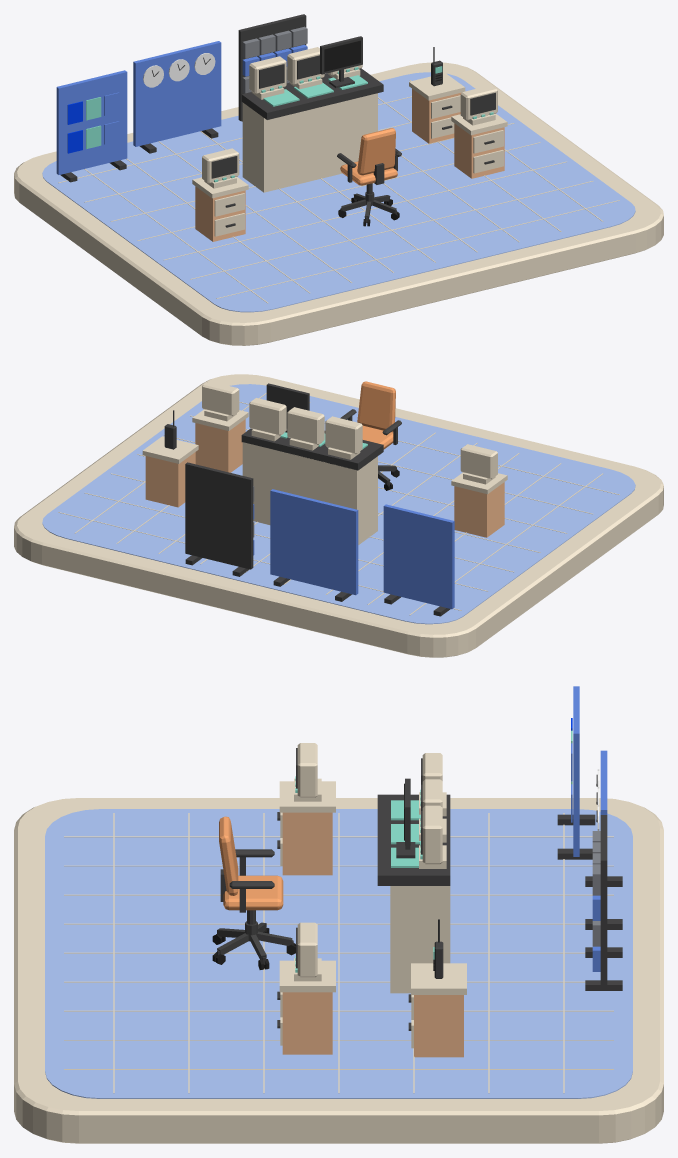
Rendered from room.fbx.
3 views of the same model, one above another, from view 1: azimuth 30°, elevation 25°; view 2: azimuth 150°, elevation 25°; view 3: azimuth 270°, elevation 25° (orthographic). The views are drawn at different scales.
Parts seen in each view (by area): view 1: COM-02 Floor Surface, COM-01 Rounded Base Direct, Console, Panel.002, Panel.001, COM-04_Chair_blender_direct, Panel, Frame, Panel.003, Body, Body.001, Body.002 (+16 smaller); view 2: COM-02 Floor Surface, COM-01 Rounded Base Direct, Panel.002, Console, Panel.001, Panel.003, COM-04_Chair_blender_direct, Body, Body.001, Body.002, Panel, Housing (+8 smaller); view 3: COM-02 Floor Surface, COM-01 Rounded Base Direct, COM-04_Chair_blender_direct, Console, Body, Body.001, Body.002, Panel, Top.002, Panel.003, Top.001, Top (+12 smaller).
Part boxes in pixels (x1,y1,x2,y2): COM-02 Floor Surface: (42,72,635,312); COM-01 Rounded Base Direct: (14,62,663,345); Console: (242,93,377,192); Panel.002: (133,41,221,146); Panel.001: (56,70,127,174); COM-04_Chair_blender_direct: (337,128,401,226); Panel: (241,68,383,119); Frame: (320,36,362,87); Panel.003: (238,14,306,121); Body: (195,186,245,241); Body.001: (454,123,504,178); Body.002: (412,89,461,143); COM-02 Floor Surface: (42,384,635,624); COM-01 Rounded Base Direct: (14,374,663,657); Panel.002: (270,489,358,595); Console: (242,442,377,544); Panel.001: (383,504,454,609); Panel.003: (185,462,253,569); COM-04_Chair_blender_direct: (340,381,401,490); Body: (454,482,504,537); Body.001: (195,419,245,472); Body.002: (145,452,195,507); Panel: (241,428,383,470); Housing: (325,416,362,454); COM-02 Floor Surface: (45,809,632,1098); COM-01 Rounded Base Direct: (14,798,663,1143); COM-04_Chair_blender_direct: (212,816,295,969); Console: (390,886,450,993); Body: (282,812,332,875); Body.001: (282,992,332,1054); Body.002: (414,995,463,1057); Panel: (377,794,450,885); Top.002: (411,963,466,994); Panel.003: (600,815,607,987); Top.001: (279,960,335,992); Top: (279,781,335,812).
Bounding box in the file's own units: 600 × 188 × 520.
